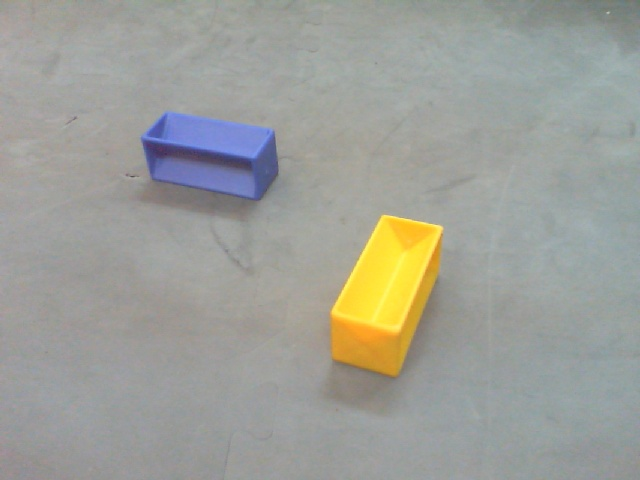BlueSample: (136, 108, 283, 202)
YellowSample: (325, 212, 447, 384)
